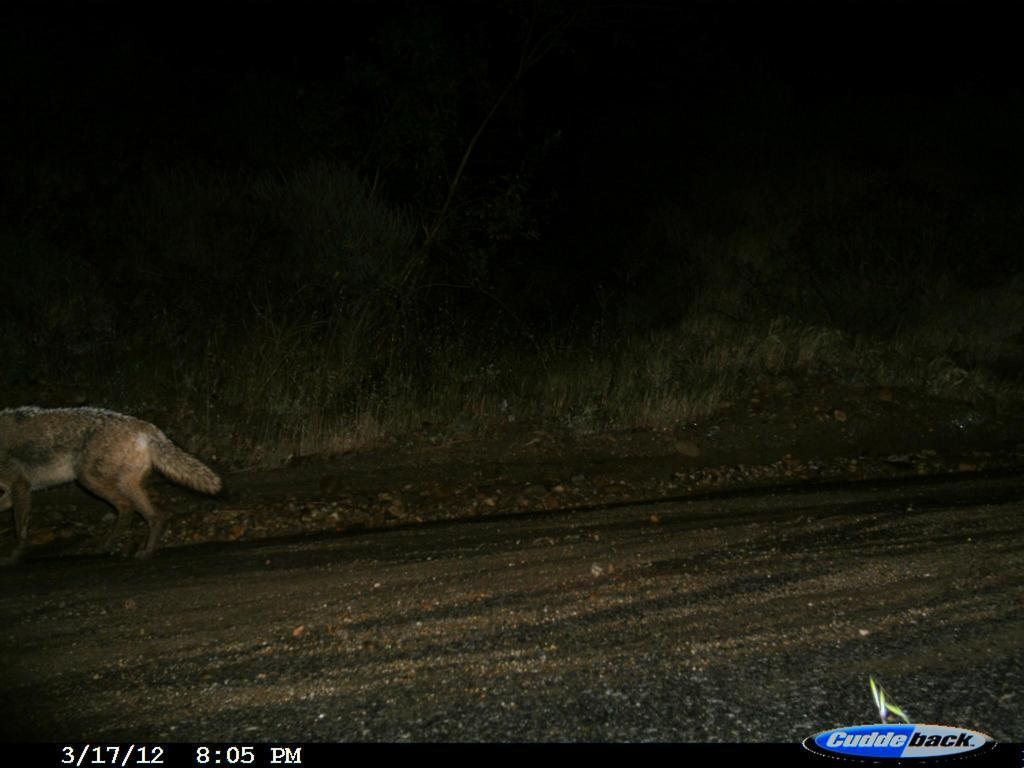coyote: (4, 391, 216, 559)
